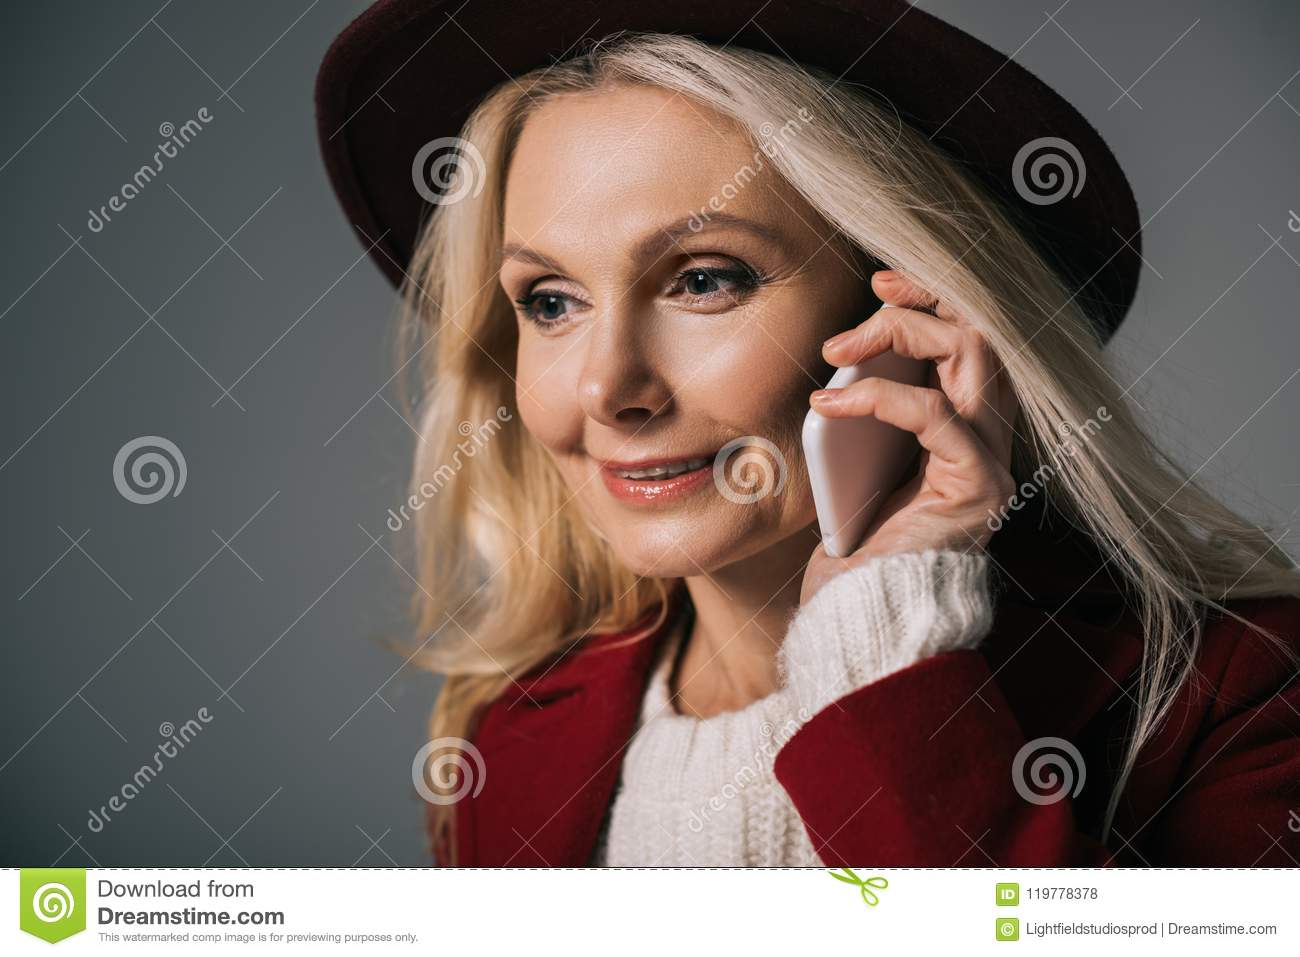phone: (798, 282, 942, 563)
talk: (494, 205, 1020, 602)
